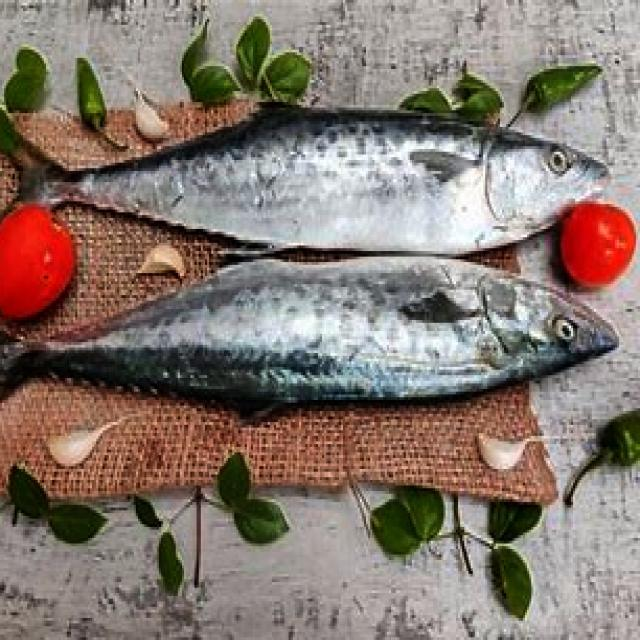seer: (0, 251, 616, 421), (0, 102, 613, 258)
